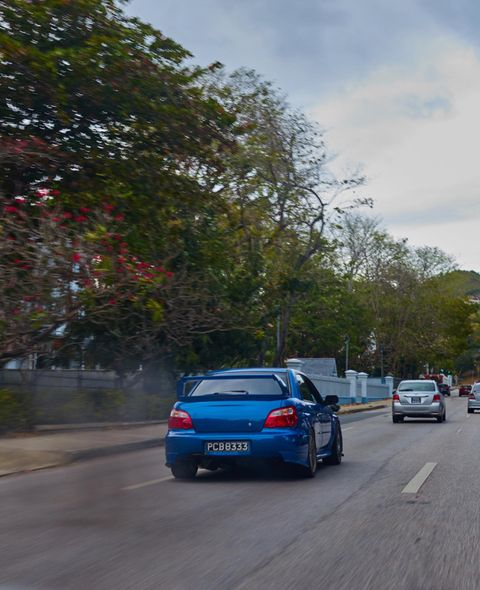License-Plate: (206, 441, 247, 450)
